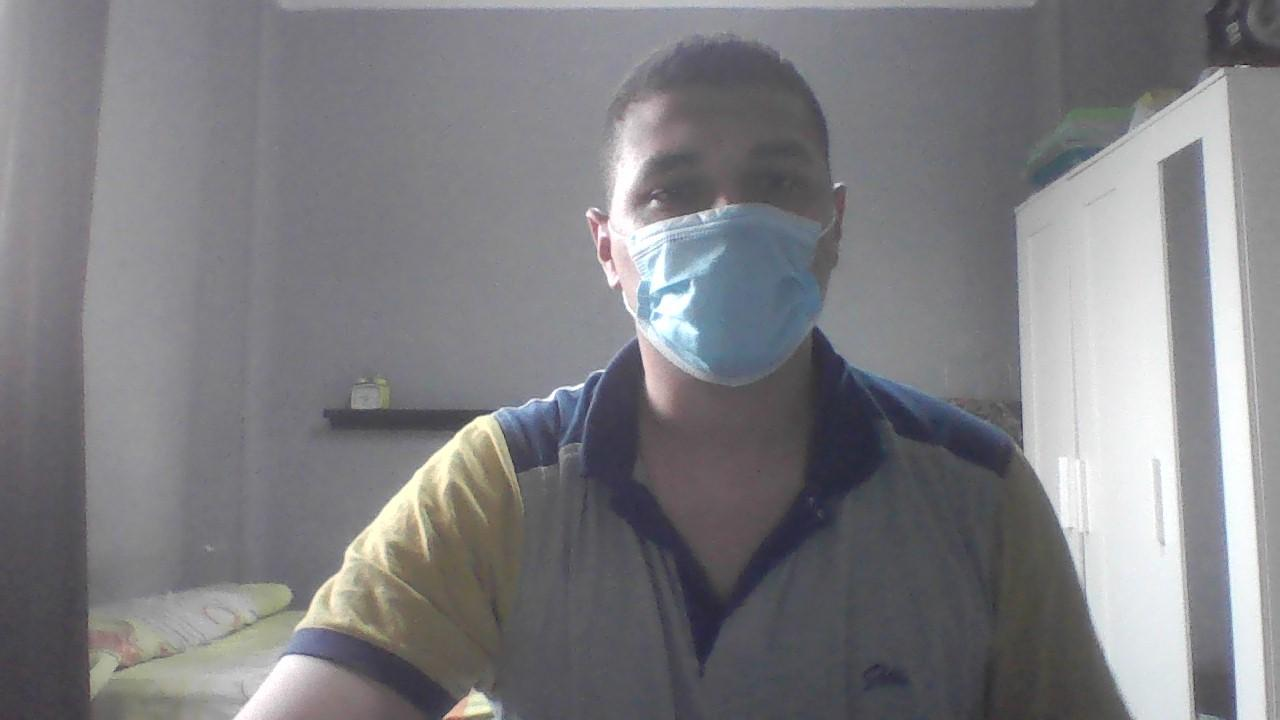with_mask: (614, 64, 843, 397)
